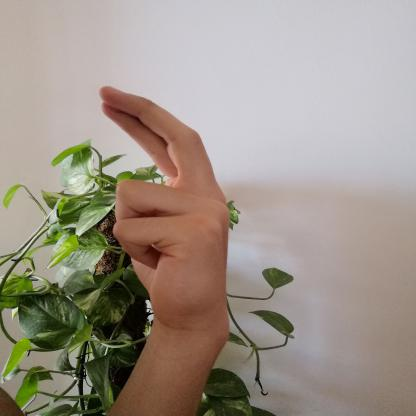ZAY: (86, 76, 241, 336)
